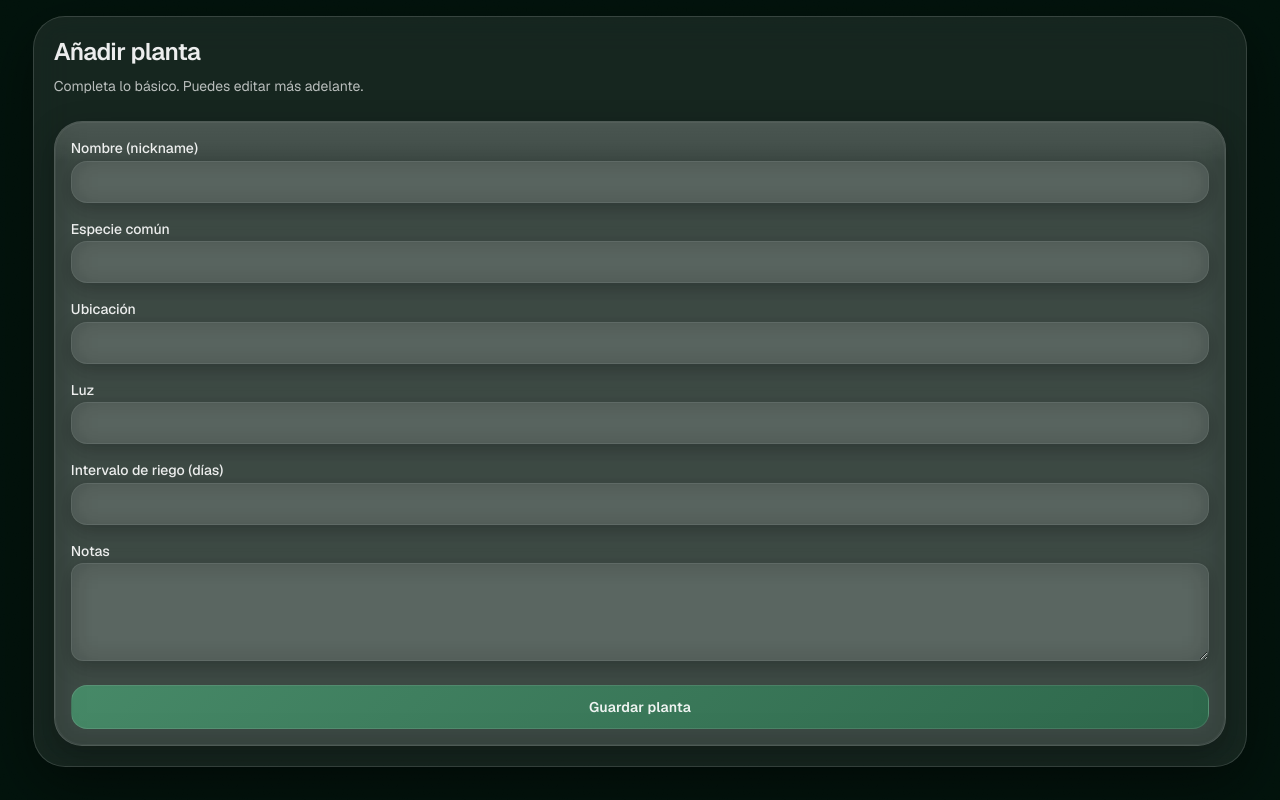
Scenario: garden/new form validation › validates watering interval integer and range
The width and height of the screenshot is (1280, 800).
In the field labelled "Nombre (nickname)": (640, 182) [71,160,1209,202], type "Aloe"
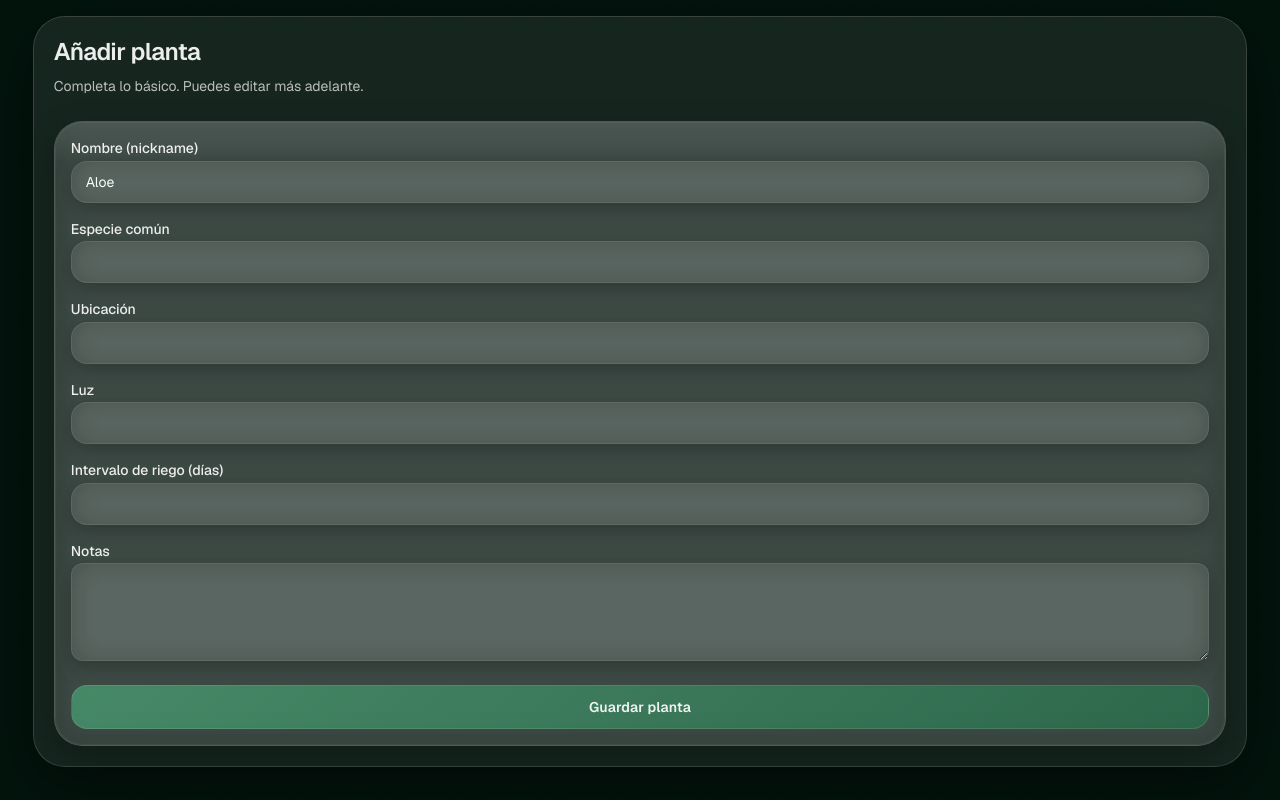
In the number field labelled "Intervalo de riego (días)": (640, 504) [71,482,1209,524], type "1.5"
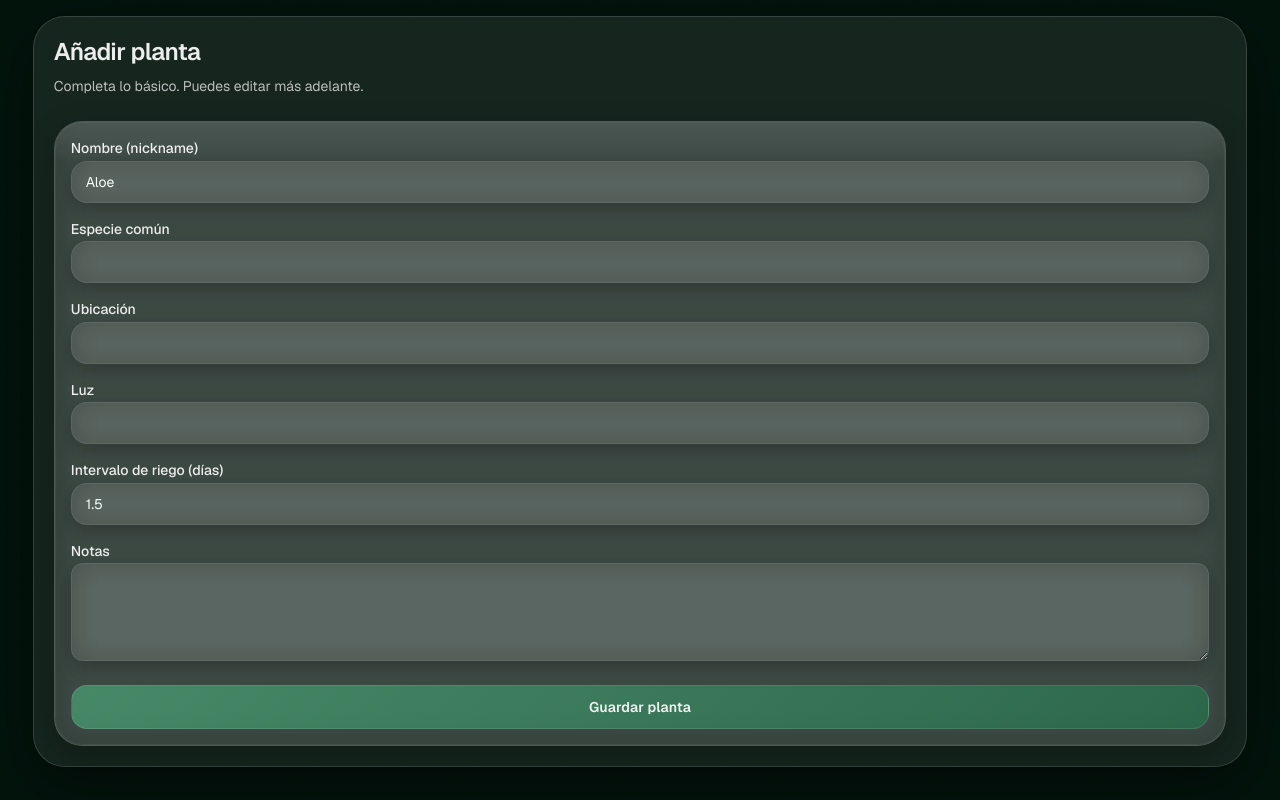
Submit the form named "Guardar planta"
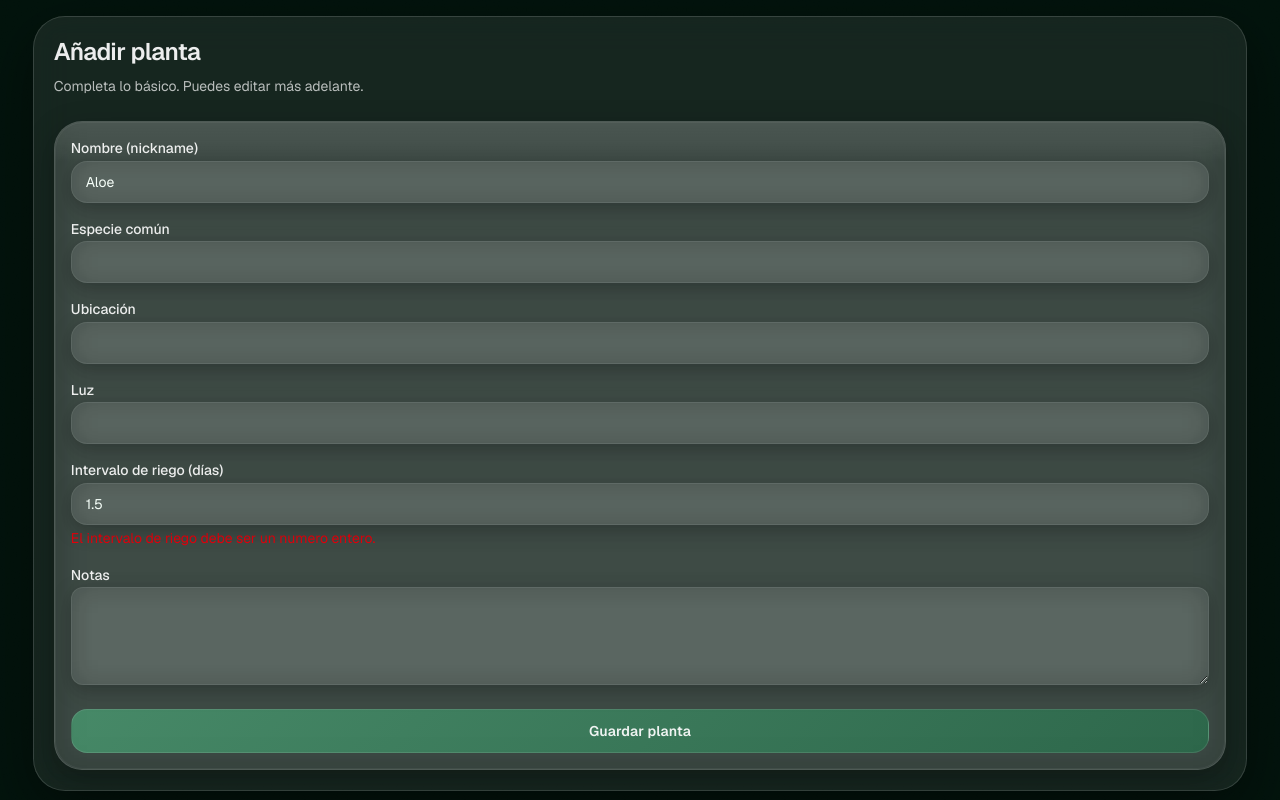
Now the text "El intervalo de riego debe ser un numero entero." is shown, box [71,530,375,548]
Replace the text in the number field labelled "Intervalo de riego (días)" with "500": (640, 504) [71,482,1209,524]
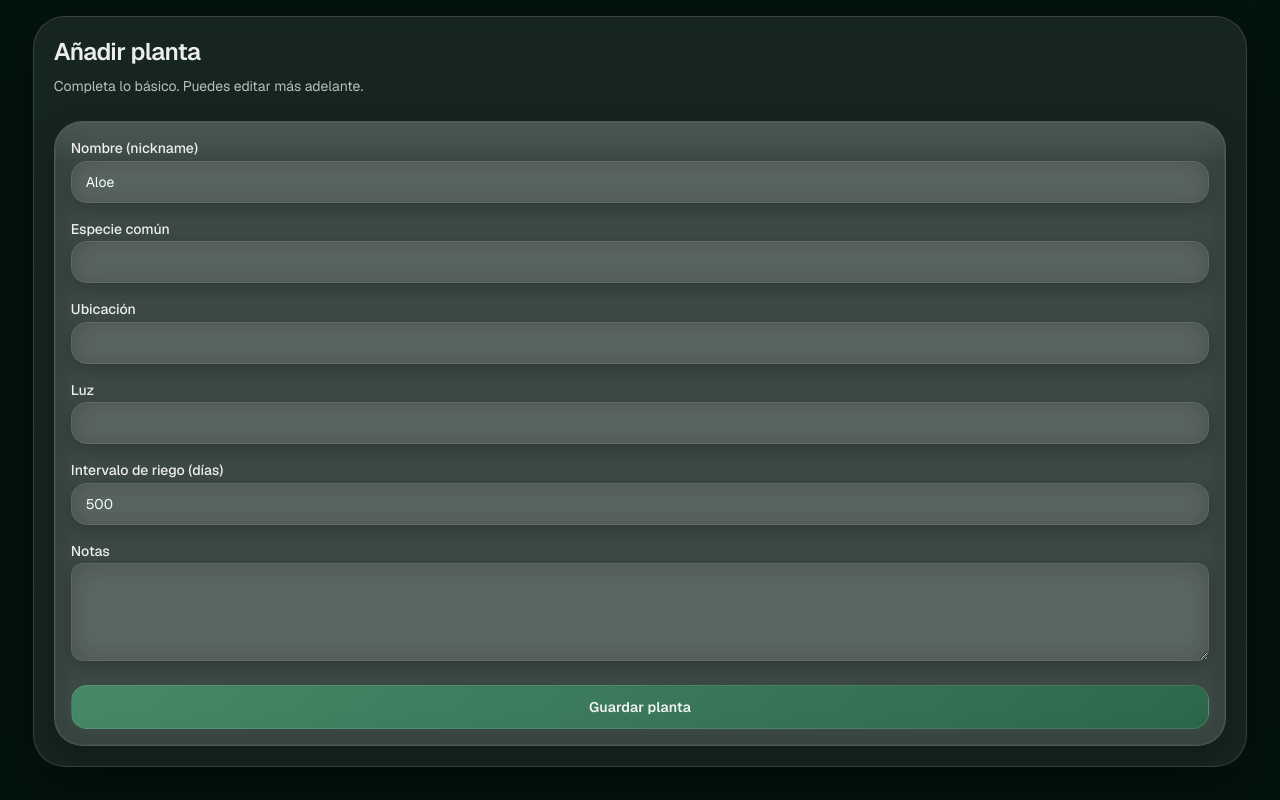
Submit the form named "Guardar planta"
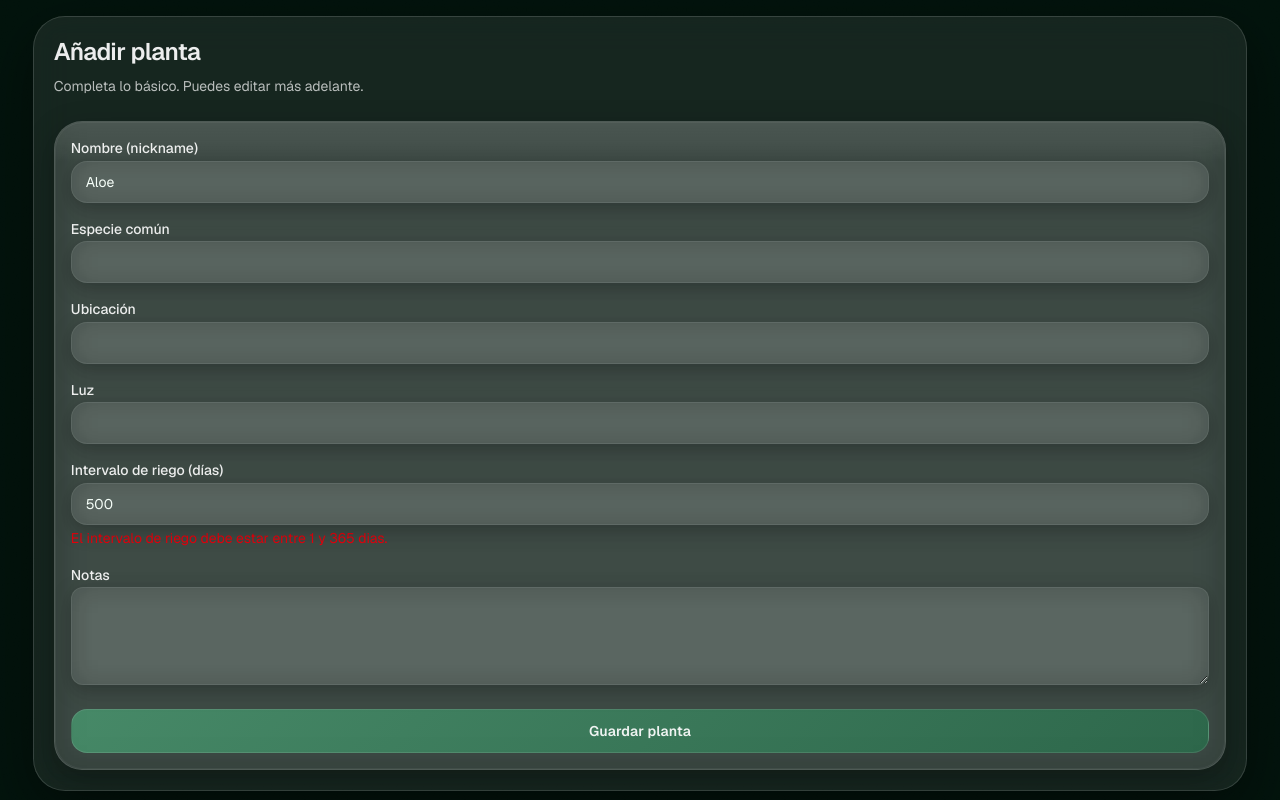
Now the text "El intervalo de riego debe estar entre 1 y 365 dias." is shown, box [71,530,387,548]
